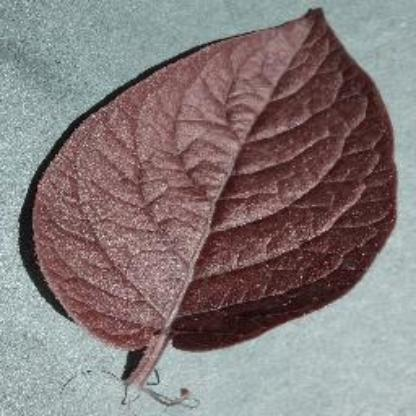Healthy-plant: (21, 12, 395, 404)
